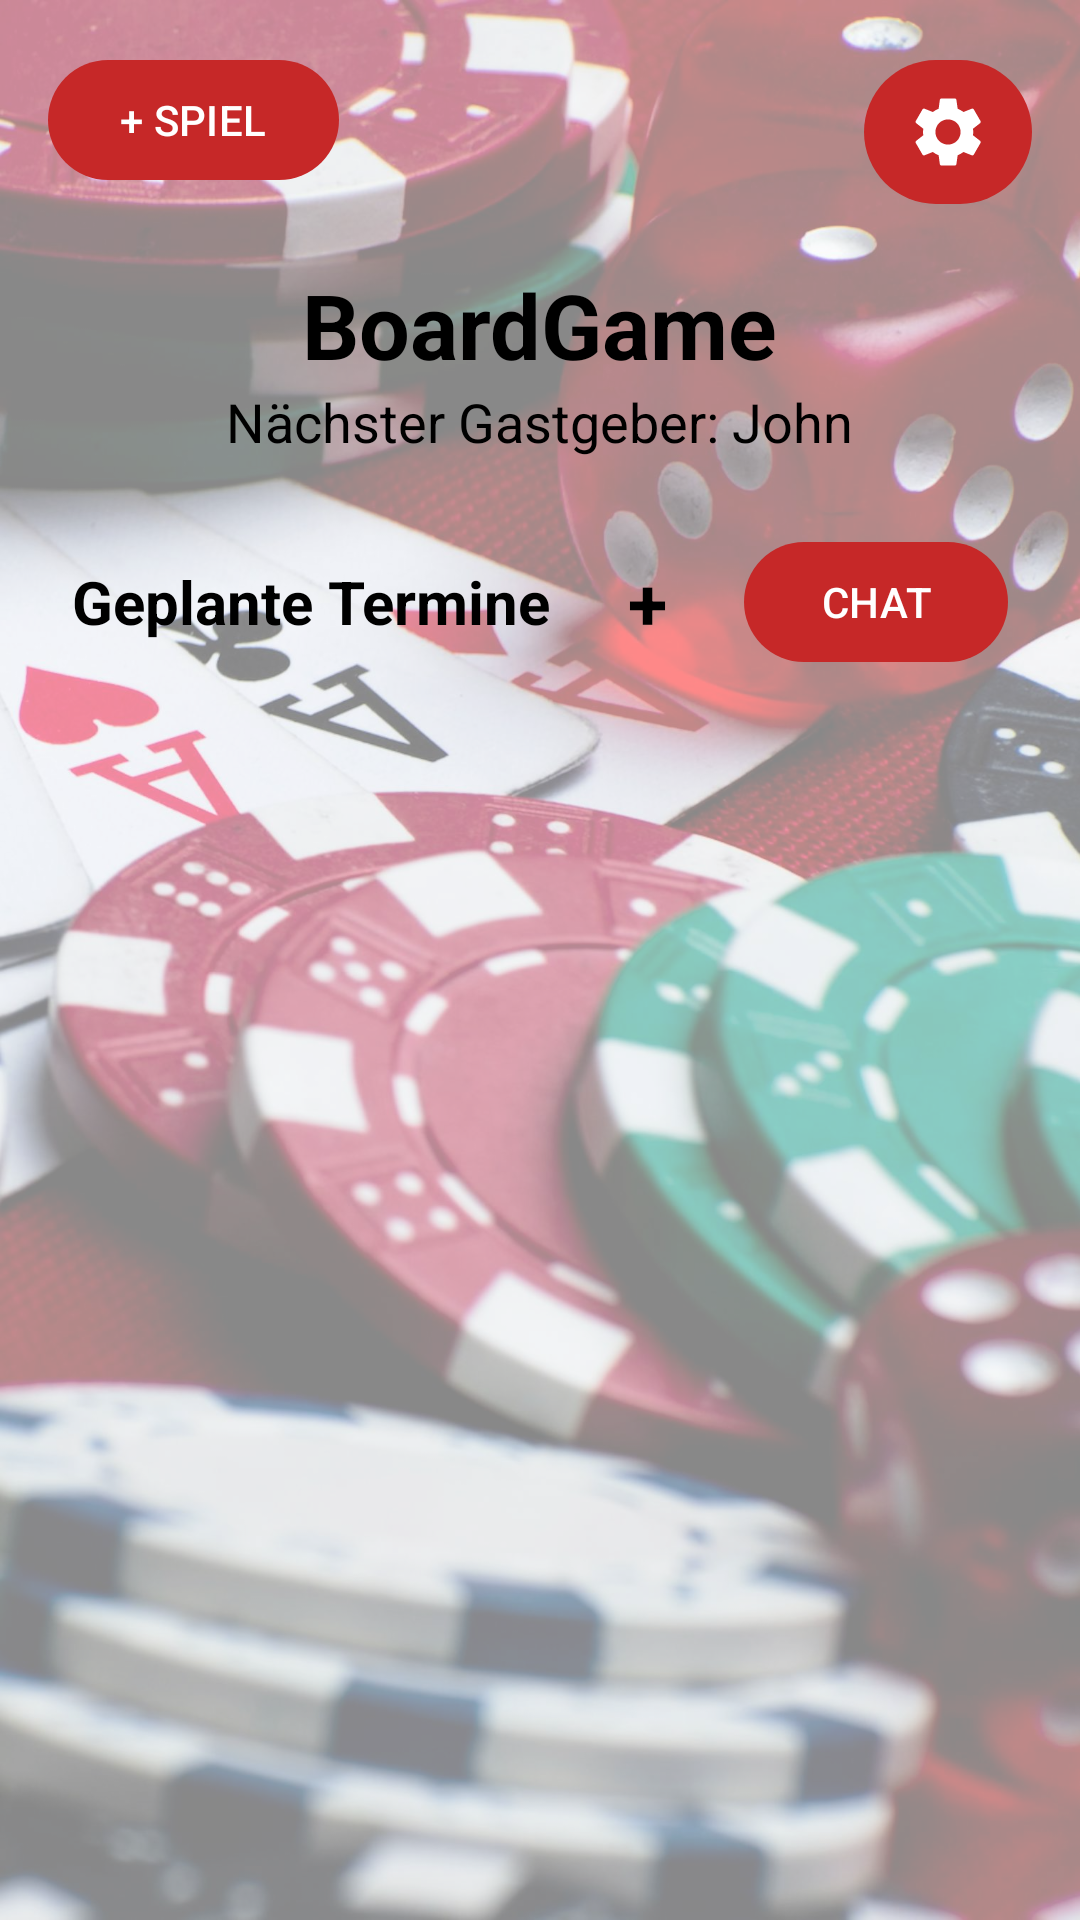

Named icons in this screenshot (1080x1920) and their centers, [x,y]:
Einstellungen: [948,126]
